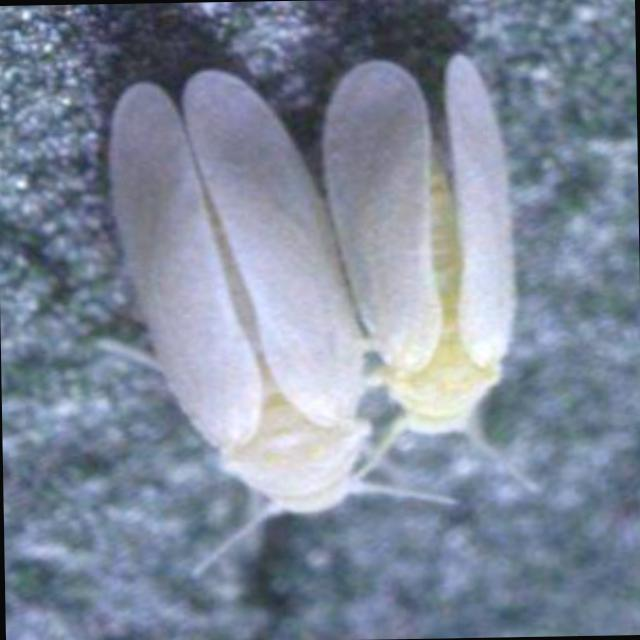Silverleaf whitefly: (36, 14, 565, 567)
